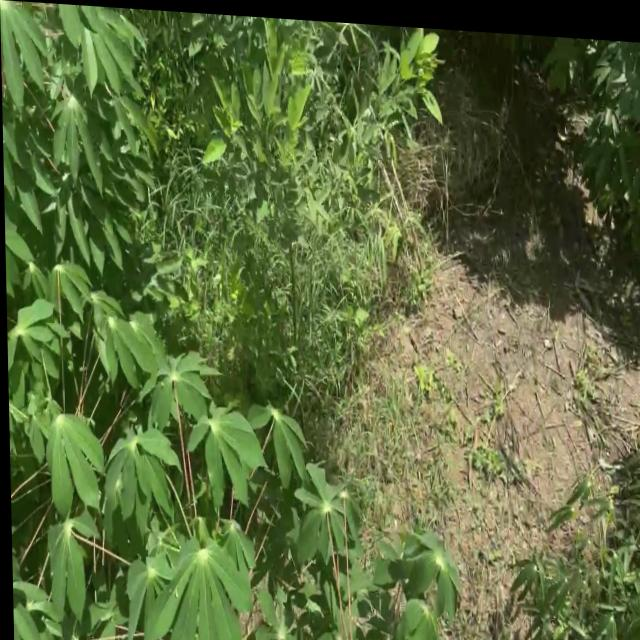Maleza: (168, 24, 354, 345), (322, 0, 438, 189)
Mosca: (105, 472, 123, 499)
